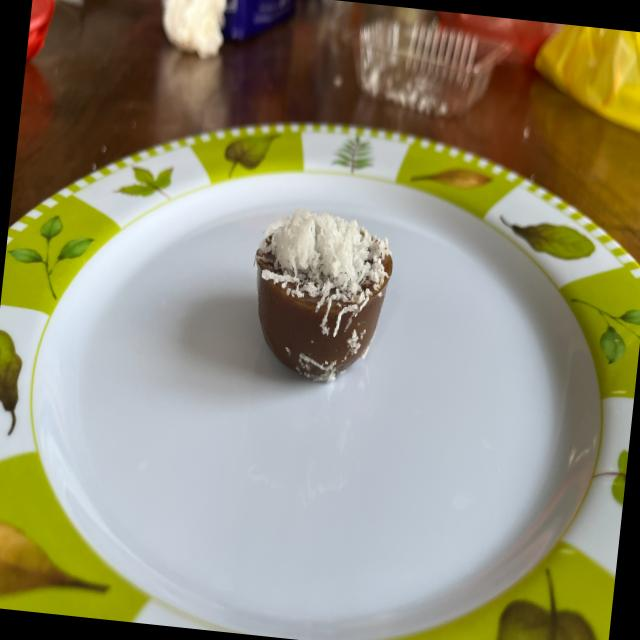Kuih lompang: (255, 208, 392, 381)
